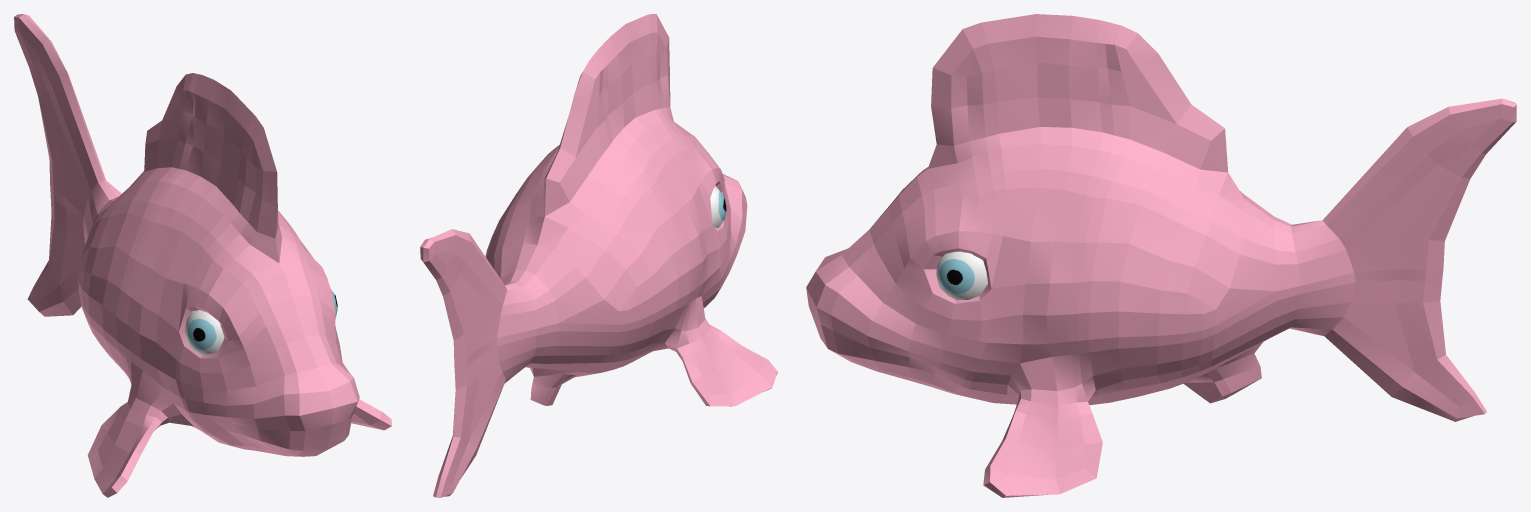
The model's file is tempfish.fbx.
3 views of the same model, side by side, from view 1: azimuth 30°, elevation 25°; view 2: azimuth 150°, elevation 25°; view 3: azimuth 270°, elevation 25° (orthographic). The views are drawn at different scales.
Parts seen in each view (by area): view 1: Group34294, pCube2; view 2: Group34294, pCube2; view 3: Group34294, pCube2.
Boxes of the visible parts, x1,y1,x2,y2 form: Group34294: (14,14,391,497); pCube2: (184,290,337,354); Group34294: (420,14,777,497); pCube2: (710,186,726,227); Group34294: (806,14,1516,497); pCube2: (936,251,987,300).
Bounding box in the file's own units: 1.56 × 1.93 × 3.01.
Materials: 2 (2 with a texture image).
